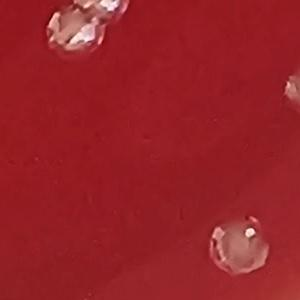colony: (206, 213, 276, 279), (40, 7, 110, 67), (69, 0, 134, 28), (278, 67, 300, 125)
